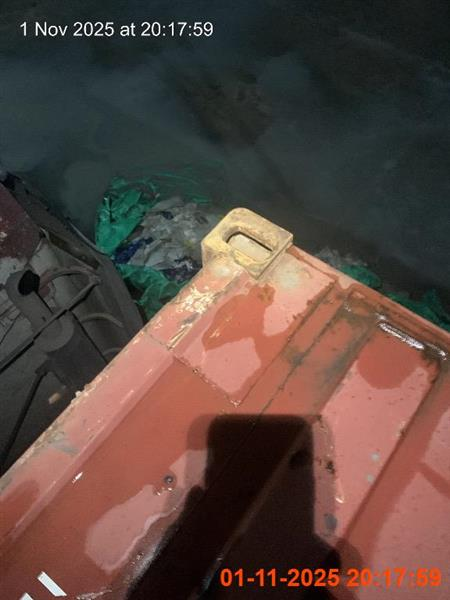broken: (0, 205, 449, 599)
